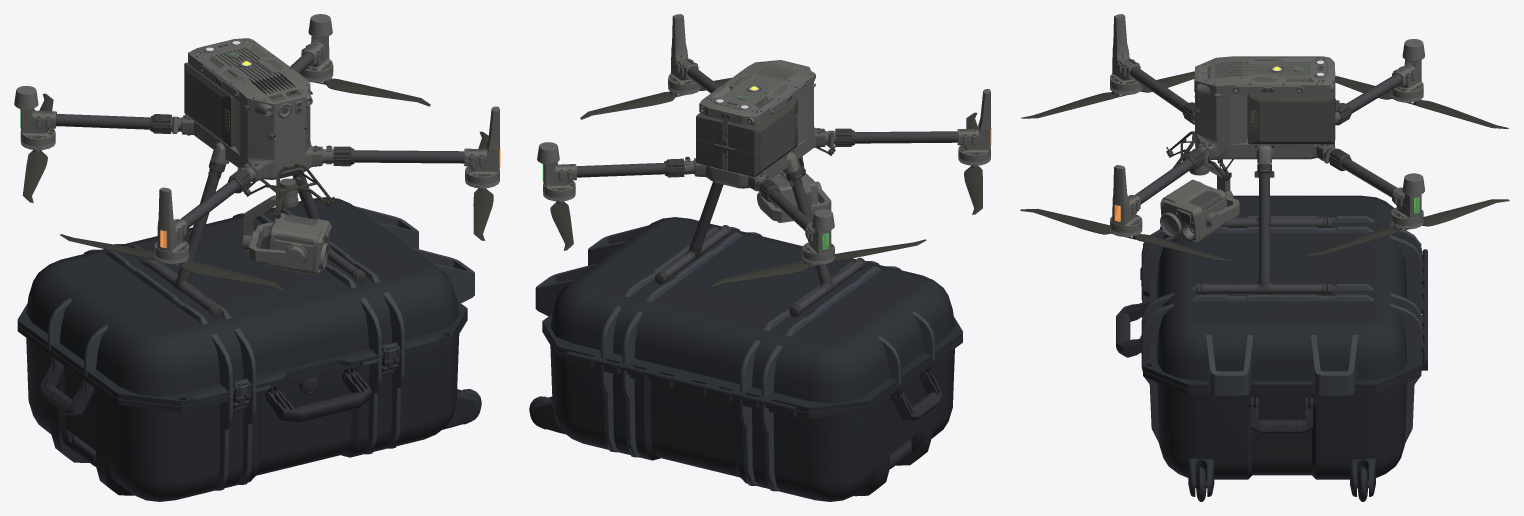
File: kestrel-drone.glb
3 views of the same model, side by side, from view 1: azimuth 30°, elevation 25°; view 2: azimuth 150°, elevation 25°; view 3: azimuth 270°, elevation 25° (orthographic). The views are drawn at different scales.
Parts seen in each view (by area): view 1: polySurface4181, polySurface4387; view 2: polySurface4181, polySurface4387; view 3: polySurface4181, polySurface4387.
Boxes of the visible parts, x1=… form: polySurface4181: x1=17, y1=197, x2=481, y2=501; polySurface4387: x1=14, y1=14, x2=500, y2=317; polySurface4181: x1=529, y1=217, x2=962, y2=501; polySurface4387: x1=537, y1=14, x2=991, y2=317; polySurface4181: x1=1116, y1=195, x2=1427, y2=501; polySurface4387: x1=1020, y1=14, x2=1509, y2=294.
Size of the model in its own units: 10.31 by 8.98 by 11.04.
6 materials, 6 textured.
